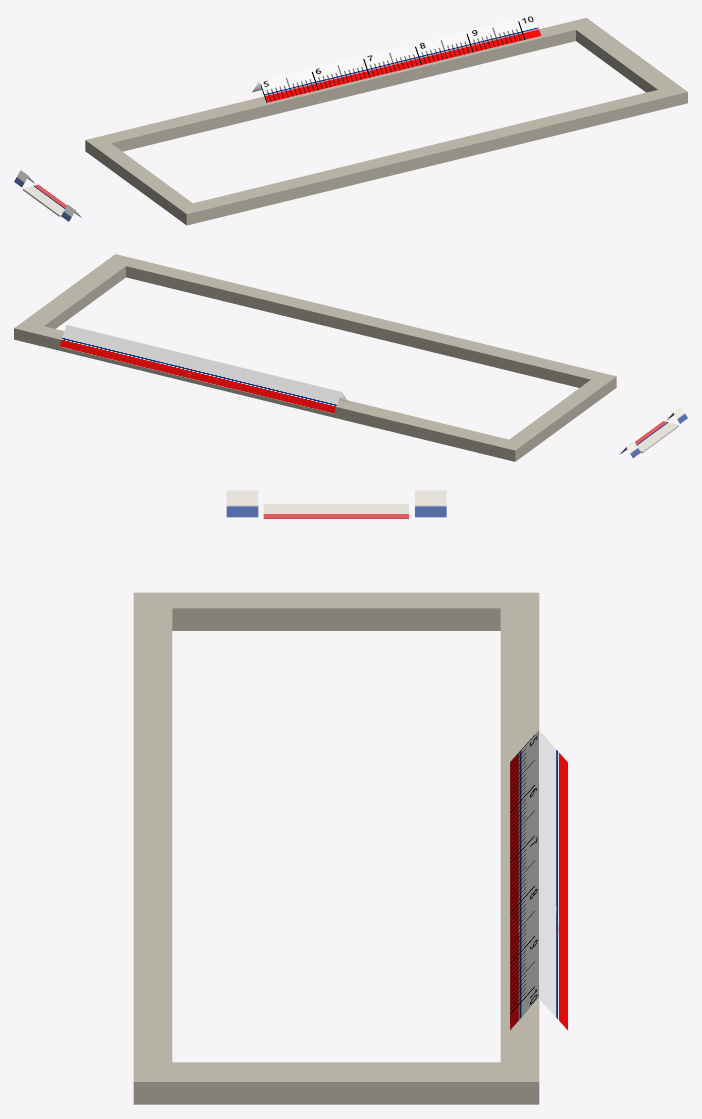
Rendered from Long_Jump.FBX.
3 views of the same model, one above another, from view 1: azimuth 30°, elevation 25°; view 2: azimuth 150°, elevation 25°; view 3: azimuth 270°, elevation 25° (orthographic). The views are drawn at different scales.
Parts seen in each view (by area): view 1: Long_Jump; view 2: Long_Jump; view 3: Long_Jump.
Part boxes in pixels (bbox=[...]): Long_Jump: bbox=[14, 14, 687, 225]; Long_Jump: bbox=[14, 254, 687, 461]; Long_Jump: bbox=[133, 490, 568, 1104].
Bounding box in the file's own units: 115 × 5.09 × 36.47.
